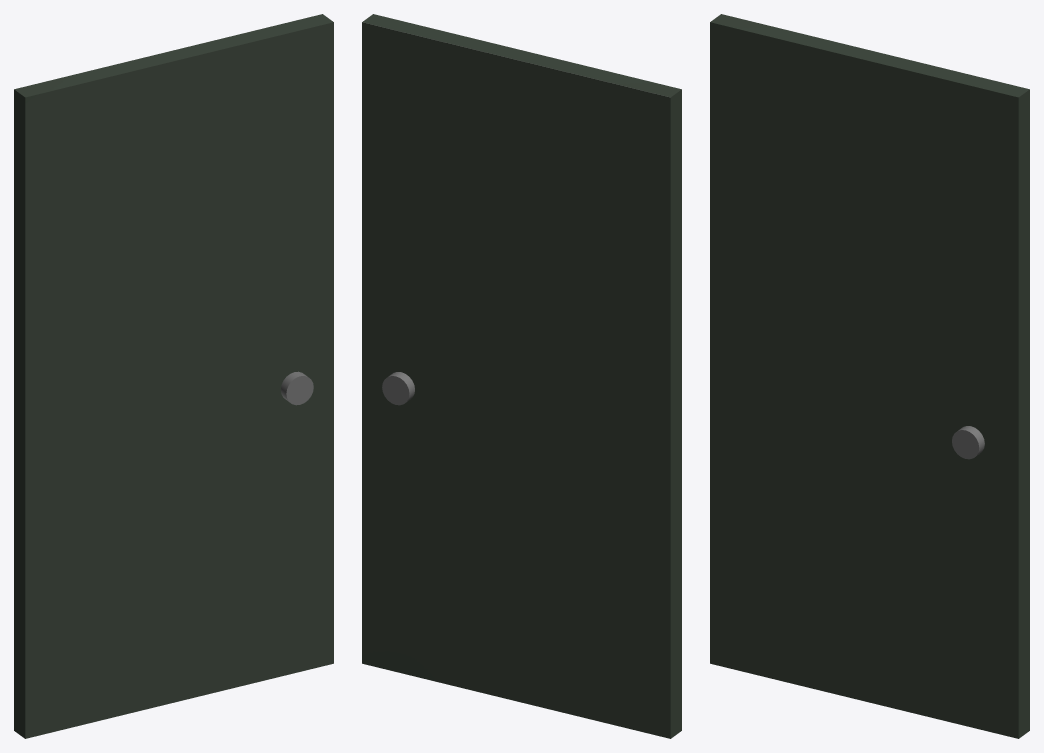
Rendered from CafeteriaDoor.fbx.
3 renders of one model, left to right at view 1: azimuth 30°, elevation 25°; view 2: azimuth 150°, elevation 25°; view 3: azimuth 330°, elevation 25°, orthographic.
Visible parts, largest first — view 1: polySurface4; view 2: polySurface4; view 3: polySurface4.
Part boxes in pixels (left/top/right/bottom): polySurface4: left=14, top=14, right=333, bottom=738; polySurface4: left=362, top=14, right=681, bottom=738; polySurface4: left=710, top=14, right=1029, bottom=738.
Bounding box in the file's own units: 4.35 × 8.64 × 0.7474.
Materials: 2 (1 with a texture image).
